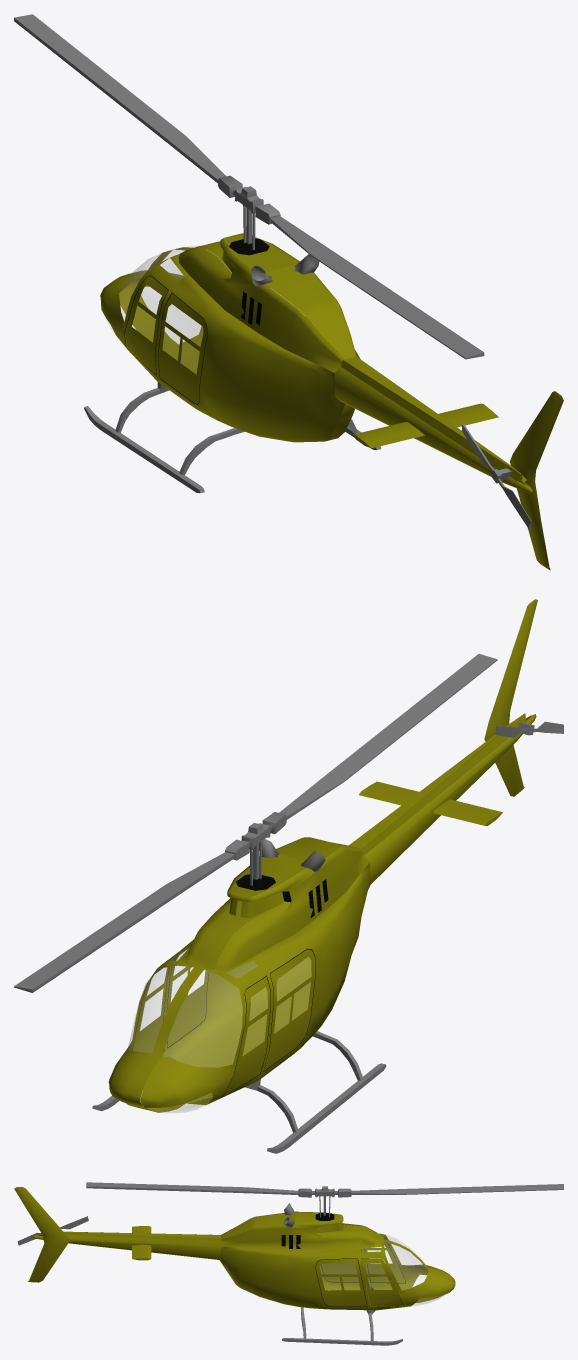
File: fallback.gltf
The picture shows the model from 3 angles, top to bottom: view 1: azimuth 30°, elevation 25°; view 2: azimuth 150°, elevation 25°; view 3: azimuth 270°, elevation 25°; orthographic projection. The views are drawn at different scales.
Parts seen in each view (by area): view 1: Layer:0_Material #25_0, Layer:0__0.001, Layer:0, Layer:0_01 - Default_0, Layer:0_08 - Default_0, Layer:0__0.002; view 2: Layer:0_Material #25_0, Layer:0_01 - Default_0, Layer:0__0.001, Layer:0, Layer:0_08 - Default_0; view 3: Layer:0_Material #25_0, Layer:0_01 - Default_0, Layer:0__0.001, Layer:0, Layer:0_08 - Default_0, Layer:0__0.002.
Boxes of the visible parts, left/top/right/bottom form: Layer:0_Material #25_0: left=100, top=233, right=563, bottom=570; Layer:0__0.001: left=14, top=14, right=484, bottom=359; Layer:0: left=84, top=175, right=511, bottom=493; Layer:0_01 - Default_0: left=103, top=245, right=202, bottom=373; Layer:0_08 - Default_0: left=124, top=238, right=269, bottom=404; Layer:0__0.002: left=462, top=423, right=531, bottom=528; Layer:0_Material #25_0: left=108, top=599, right=537, bottom=1112; Layer:0_01 - Default_0: left=127, top=947, right=311, bottom=1113; Layer:0__0.001: left=14, top=653, right=497, bottom=992; Layer:0: left=92, top=722, right=534, bottom=1153; Layer:0_08 - Default_0: left=132, top=874, right=328, bottom=1096; Layer:0_Material #25_0: left=14, top=1187, right=455, bottom=1310; Layer:0_01 - Default_0: left=320, top=1233, right=445, bottom=1305; Layer:0__0.001: left=86, top=1182, right=563, bottom=1194; Layer:0: left=282, top=1186, right=402, bottom=1345; Layer:0_08 - Default_0: left=281, top=1213, right=405, bottom=1306; Layer:0__0.002: left=17, top=1216, right=88, bottom=1245.
Size of the model in its own units: 31.94 by 45.01 by 161.
